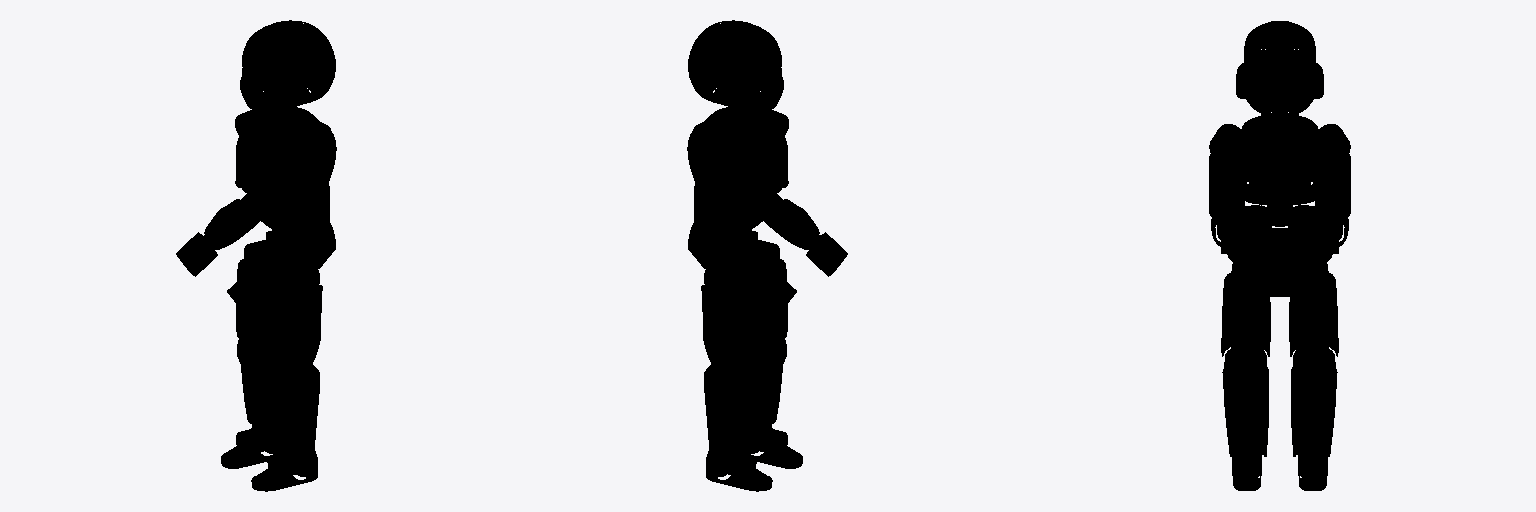
--- Facts derived from the render (not from the file) ---
3 views of the same robot in one strip: view 1: azimuth 30°, elevation 25°; view 2: azimuth 150°, elevation 25°; view 3: azimuth 270°, elevation 25° (orthographic).
Model iCub with 56 links and 55 joints (29 revolute, 26 fixed), rooted at base_link, posed joints at zero except 2 at the middle of their limits (l_elbow = 0.973, r_elbow = 0.973).
Links seen in each view (by area): view 1: head, chest, l_upper_leg, l_lower_leg, r_lower_leg, l_upper_arm, l_forearm, torso_1, r_forearm, l_foot, r_upper_leg, r_foot (+4 smaller); view 2: head, chest, r_upper_leg, r_lower_leg, l_lower_leg, r_upper_arm, r_forearm, torso_1, l_forearm, r_foot, l_upper_leg, l_foot (+4 smaller); view 3: torso_1, chest, head, l_upper_leg, r_upper_leg, l_lower_leg, r_lower_leg, l_upper_arm, r_upper_arm, l_shoulder_2, r_shoulder_2, l_foot (+1 smaller).
Link boxes in pixels (x1,y1,x2,y2): head: (240, 20, 335, 113); chest: (242, 107, 336, 204); l_upper_leg: (266, 281, 322, 371); l_lower_leg: (269, 362, 319, 461); r_lower_leg: (237, 339, 276, 438); l_upper_arm: (286, 170, 329, 234); l_forearm: (255, 231, 312, 287); torso_1: (247, 199, 335, 268); r_forearm: (204, 193, 259, 250); l_foot: (251, 450, 317, 491); r_upper_leg: (236, 258, 279, 345); r_foot: (221, 429, 282, 468); head: (688, 20, 783, 113); chest: (687, 107, 782, 204); r_upper_leg: (701, 281, 757, 371); r_lower_leg: (704, 362, 754, 461); l_lower_leg: (747, 339, 786, 438); r_upper_arm: (694, 170, 737, 234); r_forearm: (711, 231, 768, 287); torso_1: (688, 199, 776, 268); l_forearm: (764, 193, 820, 250); r_foot: (706, 450, 772, 491); l_upper_leg: (744, 258, 787, 345); l_foot: (741, 429, 802, 468); torso_1: (1227, 203, 1332, 291); chest: (1234, 116, 1325, 204); head: (1236, 21, 1323, 116); l_upper_leg: (1221, 271, 1270, 386); r_upper_leg: (1289, 271, 1338, 386); l_lower_leg: (1222, 349, 1268, 462); r_lower_leg: (1291, 349, 1337, 462); l_upper_arm: (1209, 154, 1244, 220); r_upper_arm: (1315, 154, 1350, 220); l_shoulder_2: (1209, 124, 1240, 161); r_shoulder_2: (1319, 124, 1350, 161); l_foot: (1233, 459, 1260, 490).
Size in the robot's own frame: 0.3131 by 0.2951 by 1.05 metres.
28 mesh visuals loaded from 28 distinct referenced files (28 Collada DAE).

The robot description file, URDF, robot "iCub":
<?xml version="1.0" ?>
<robot name="iCub">
    <link name="base_link" />
    <link name="chest">
        <inertial>
            <mass value="4.81" />
            <origin xyz="0.00222898 0.075 -1.18362e-17" rpy="0 -0 0" />
            <inertia ixx="0.07472" ixy="-3.6e-06" ixz="-4.705e-05" iyy="0.08145" iyz="0.004567" izz="0.01306" />
        </inertial>
        <visual>
            <origin xyz="-0.0055 -6.93889e-18 -1.72085e-18" rpy="0 -1.5708 1.5708" />
            <geometry>
                <mesh filename="package://icub_description/meshes/upmc/visual/icub_chest.dae" scale="1 1 1" />
            </geometry>
            <material name="material.metal">
                <texture />
                <color rgba="0 0 0 1" />
            </material>
        </visual>
        <collision>
            <origin xyz="-0.0055 -6.93889e-18 -1.72085e-18" rpy="0 -1.5708 1.5708" />
            <geometry>
                <mesh filename="package://icub_description/meshes/upmc/collision/icub_simple_collision_chest.dae" scale="1 1 1" />
            </geometry>
        </collision>
    </link>
    <link name="chest_skin_frame">
        <inertial>
            <mass value="0" />
            <origin xyz="0 0 0" rpy="0 -0 0" />
            <inertia ixx="0" ixy="0" ixz="0" iyy="0" iyz="0" izz="0" />
        </inertial>
    </link>
    <link name="codyco_balancing_world">
        <inertial>
            <mass value="0" />
            <origin xyz="0 0 0" rpy="0 -0 0" />
            <inertia ixx="0" ixy="0" ixz="0" iyy="0" iyz="0" izz="0" />
        </inertial>
    </link>
    <link name="head">
        <inertial>
            <mass value="1.33687" />
            <origin xyz="0.0185 -0.1108 6.78454e-18" rpy="0 -0 0" />
            <inertia ixx="0" ixy="0" ixz="2.40741e-35" iyy="0" iyz="0" izz="0" />
        </inertial>
        <visual>
            <origin xyz="0.0045 -0.0235 9.42554e-13" rpy="0 1.5708 -1.5708" />
            <geometry>
                <mesh filename="package://icub_description/meshes/upmc/visual/icub_head.dae" scale="1 1 1" />
            </geometry>
            <material name="material.metal">
                <texture />
                <color rgba="0 0 0 1" />
            </material>
        </visual>
        <collision>
            <origin xyz="0.0045 -0.0235 9.42554e-13" rpy="0 1.5708 -1.5708" />
            <geometry>
                <mesh filename="package://icub_description/meshes/upmc/collision/icub_simple_collision_head.dae" scale="1 1 1" />
            </geometry>
        </collision>
    </link>
    <link name="imu_frame">
        <inertial>
            <mass value="0" />
            <origin xyz="0 0 0" rpy="0 -0 0" />
            <inertia ixx="0" ixy="0" ixz="0" iyy="0" iyz="0" izz="0" />
        </inertial>
    </link>
    <link name="l_ankle_1">
        <inertial>
            <mass value="0.746" />
            <origin xyz="-0.0054 0.00163 0.0172" rpy="0 -0 0" />
            <inertia ixx="0.00063323" ixy="-7.081e-06" ixz="4.1421e-05" iyy="0.00068776" iyz="2.0817e-05" izz="0.000313897" />
        </inertial>
        <visual>
            <origin xyz="1.11022e-16 -5.54343e-12 4.45647e-12" rpy="1.5708 1.53106e-11 1.53105e-11" />
            <geometry>
                <mesh filename="package://icub_description/meshes/upmc/visual/icub_l_ankle_1.dae" scale="1 1 1" />
            </geometry>
            <material name="material.metal">
                <texture />
                <color rgba="0 0 0 1" />
            </material>
        </visual>
        <collision>
            <origin xyz="1.11022e-16 -5.54343e-12 4.45647e-12" rpy="1.5708 1.53106e-11 1.53105e-11" />
            <geometry>
                <mesh filename="package://icub_description/meshes/upmc/collision/icub_simple_collision_l_ankle_1.dae" scale="1 1 1" />
            </geometry>
        </collision>
    </link>
    <link name="l_ankle_2">
        <inertial>
            <mass value="0.2675" />
            <origin xyz="0.017 0 0.042" rpy="0 -0 0" />
            <inertia ixx="0" ixy="0" ixz="0" iyy="0" iyz="0" izz="0" />
        </inertial>
    </link>
    <link name="l_elbow_1">
        <inertial>
            <mass value="0.074" />
            <origin xyz="-0.0013 0.00371 -0.00105" rpy="0 -0 0" />
            <inertia ixx="2.8389e-05" ixy="-5.15e-07" ixz="-4.08e-07" iyy="9.244e-06" iyz="-3.71e-07" izz="2.9968e-05" />
        </inertial>
    </link>
    <link name="l_foot">
        <inertial>
            <mass value="0.5935" />
            <origin xyz="0.007069 -0.000613931 -0.0334154" rpy="0 -0 0" />
            <inertia ixx="0.00193893" ixy="-1.3505e-05" ixz="0.0001823" iyy="0.0030191" iyz="-3.30533e-06" izz="0.00162801" />
        </inertial>
        <visual>
            <origin xyz="-0.017 -5.54343e-12 -0.042" rpy="0 1.5708 -2.0414e-11" />
            <geometry>
                <mesh filename="package://icub_description/meshes/upmc/visual/icub_l_foot.dae" scale="1 1 1" />
            </geometry>
            <material name="material.metal">
                <texture />
                <color rgba="0 0 0 1" />
            </material>
        </visual>
        <collision>
            <origin xyz="-0.017 -5.54343e-12 -0.042" rpy="0 1.5708 -2.0414e-11" />
            <geometry>
                <mesh filename="package://icub_description/meshes/upmc/collision/icub_simple_collision_l_foot.dae" scale="1 1 1" />
            </geometry>
        </collision>
    </link>
    <link name="l_foot_dh_frame">
        <inertial>
            <mass value="0" />
            <origin xyz="0 0 0" rpy="0 -0 0" />
            <inertia ixx="0" ixy="0" ixz="0" iyy="0" iyz="0" izz="0" />
        </inertial>
    </link>
    <link name="l_forearm">
        <inertial>
            <mass value="0.525" />
            <origin xyz="0.000347 0.066 0.00476" rpy="0 -0 0" />
            <inertia ixx="0.000765393" ixy="4.337e-06" ixz="2.39e-07" iyy="0.000164578" iyz="1.9381e-05" izz="0.00069806" />
        </inertial>
        <visual>
            <origin xyz="-0.000143922 -1.25977e-12 0.0204334" rpy="0 1.5708 1.5708" />
            <geometry>
                <mesh filename="package://icub_description/meshes/upmc/visual/icub_l_forearm.dae" scale="1 1 1" />
            </geometry>
            <material name="material.metal">
                <texture />
                <color rgba="0 0 0 1" />
            </material>
        </visual>
        <collision>
            <origin xyz="-0.000143922 -1.25977e-12 0.0204334" rpy="0 1.5708 1.5708" />
            <geometry>
                <mesh filename="package://icub_description/meshes/upmc/collision/icub_simple_collision_l_forearm.dae" scale="1 1 1" />
            </geometry>
        </collision>
    </link>
    <link name="l_forearm_dh_frame">
        <inertial>
            <mass value="0" />
            <origin xyz="0 0 0" rpy="0 -0 0" />
            <inertia ixx="0" ixy="0" ixz="0" iyy="0" iyz="0" izz="0" />
        </inertial>
    </link>
    <link name="l_gripper">
        <inertial>
            <mass value="0" />
            <origin xyz="0 0 0" rpy="0 -0 0" />
            <inertia ixx="0" ixy="0" ixz="0" iyy="0" iyz="0" izz="0" />
        </inertial>
    </link>
    <link name="l_hand">
        <inertial>
            <mass value="0.213" />
            <origin xyz="0.07023 -0.00805 -0.007" rpy="0 -0 0" />
            <inertia ixx="0.000157143" ixy="1.278e-05" ixz="4.823e-06" iyy="0.000247995" iyz="-1.8188e-05" izz="0.000380535" />
        </inertial>
        <visual>
            <origin xyz="-1.25981e-12 0.0204334 -0.000143922" rpy="5.10195e-12 -2.64173e-12 1.49623e-11" />
            <geometry>
                <mesh filename="package://icub_description/meshes/upmc/visual/icub_l_hand.dae" scale="1 1 1" />
            </geometry>
            <material name="material.metal">
                <texture />
                <color rgba="0 0 0 1" />
            </material>
        </visual>
        <collision>
            <origin xyz="-1.25981e-12 0.0204334 -0.000143922" rpy="5.10195e-12 -2.64173e-12 1.49623e-11" />
            <geometry>
                <mesh filename="package://icub_description/meshes/upmc/collision/icub_simple_collision_l_hand.dae" scale="1 1 1" />
            </geometry>
        </collision>
    </link>
    <link name="l_hand_dh_frame">
        <inertial>
            <mass value="0" />
            <origin xyz="0 0 0" rpy="0 -0 0" />
            <inertia ixx="0" ixy="0" ixz="0" iyy="0" iyz="0" izz="0" />
        </inertial>
    </link>
    <link name="l_hip_1">
        <inertial>
            <mass value="0.754" />
            <origin xyz="0 -0.0782 0" rpy="0 -0 0" />
            <inertia ixx="0.000471076" ixy="2.059e-06" ixz="1.451e-06" iyy="0.000346478" iyz="1.545e-06" izz="0.000510315" />
        </inertial>
        <visual>
            <origin xyz="0 0 0" rpy="0 1.5708 -1.5708" />
            <geometry>
                <mesh filename="package://icub_description/meshes/upmc/visual/icub_l_hip_1.dae" scale="1 1 1" />
            </geometry>
            <material name="material.metal">
                <texture />
                <color rgba="0 0 0 1" />
            </material>
        </visual>
        <collision>
            <origin xyz="0 0 0" rpy="0 1.5708 -1.5708" />
            <geometry>
                <mesh filename="package://icub_description/meshes/upmc/collision/icub_simple_collision_l_hip_1.dae" scale="1 1 1" />
            </geometry>
        </collision>
    </link>
    <link name="l_hip_2">
        <inertial>
            <mass value="0.526" />
            <origin xyz="0 0 0.03045" rpy="0 -0 0" />
            <inertia ixx="0.000561583" ixy="-7.4e-08" ixz="1.0835e-05" iyy="0.000738049" iyz="-6.2e-08" izz="0.000294119" />
        </inertial>
        <visual>
            <origin xyz="0 0 0" rpy="0 -1.5708 3.14159" />
            <geometry>
                <mesh filename="package://icub_description/meshes/upmc/visual/icub_l_hip_2.dae" scale="1 1 1" />
            </geometry>
            <material name="material.metal">
                <texture />
                <color rgba="0 0 0 1" />
            </material>
        </visual>
        <collision>
            <origin xyz="0 0 0" rpy="0 -1.5708 3.14159" />
            <geometry>
                <mesh filename="package://icub_description/meshes/upmc/collision/icub_simple_collision_l_hip_2.dae" scale="1 1 1" />
            </geometry>
        </collision>
    </link>
    <link name="l_hip_3">
        <inertial>
            <mass value="0" />
            <origin xyz="0 0 0" rpy="0 -0 0" />
            <inertia ixx="0" ixy="0" ixz="0" iyy="0" iyz="0" izz="0" />
        </inertial>
    </link>
    <link name="l_lower_leg">
        <inertial>
            <mass value="1.264" />
            <origin xyz="-0.1071 0.00182 0.00211" rpy="0 -0 0" />
            <inertia ixx="0.00099895" ixy="-0.000185699" ixz="-6.3147e-05" iyy="0.00445054" iyz="7.86e-07" izz="0.00420766" />
        </inertial>
        <visual>
            <origin xyz="5.55112e-17 2.28232e-12 2.2823e-12" rpy="-3.14159 -2.33487e-16 1.5708" />
            <geometry>
                <mesh filename="package://icub_description/meshes/upmc/visual/icub_l_shank.dae" scale="1 1 1" />
            </geometry>
            <material name="material.metal">
                <texture />
                <color rgba="0 0 0 1" />
            </material>
        </visual>
        <collision>
            <origin xyz="5.55112e-17 2.28232e-12 2.2823e-12" rpy="-3.14159 -2.33487e-16 1.5708" />
            <geometry>
                <mesh filename="package://icub_description/meshes/upmc/collision/icub_simple_collision_l_shank.dae" scale="1 1 1" />
            </geometry>
        </collision>
    </link>
    <link name="l_shoulder_1">
        <inertial>
            <mass value="0.189" />
            <origin xyz="-5e-06 0.0187 -0.00119" rpy="0 -0 0" />
            <inertia ixx="5.4421e-05" ixy="9e-09" ixz="0" iyy="9.331e-06" iyz="-1.7e-08" izz="5.4862e-05" />
        </inertial>
        <visual>
            <origin xyz="3.08087e-14 0.109285 -0.00521101" rpy="0 1.5708 -1.5708" />
            <geometry>
                <mesh filename="package://icub_description/meshes/upmc/visual/icub_l_shoulder_1.dae" scale="1 1 1" />
            </geometry>
            <material name="material.metal">
                <texture />
                <color rgba="0 0 0 1" />
            </material>
        </visual>
        <collision>
            <origin xyz="3.08087e-14 0.109285 -0.00521101" rpy="0 1.5708 -1.5708" />
            <geometry>
                <mesh filename="package://icub_description/meshes/upmc/collision/icub_simple_collision_l_shoulder_1.dae" scale="1 1 1" />
            </geometry>
        </collision>
    </link>
    <link name="l_shoulder_2">
        <inertial>
            <mass value="0.179" />
            <origin xyz="9.4e-05 -0.00627 0.0166" rpy="0 -0 0" />
            <inertia ixx="0.0001372" ixy="4.66e-07" ixz="3.65e-07" iyy="8.2927e-05" iyz="-2.0524e-05" izz="9.9274e-05" />
        </inertial>
        <visual>
            <origin xyz="-0.00154529 -0.00521101 -1.11181e-12" rpy="0 1.5708 1.5708" />
            <geometry>
                <mesh filename="package://icub_description/meshes/upmc/visual/icub_l_shoulder_2.dae" scale="1 1 1" />
            </geometry>
            <material name="material.metal">
                <texture />
                <color rgba="0 0 0 1" />
            </material>
        </visual>
        <collision>
            <origin xyz="-0.00154529 -0.00521101 -1.11181e-12" rpy="0 1.5708 1.5708" />
            <geometry>
                <mesh filename="package://icub_description/meshes/upmc/collision/icub_simple_collision_l_shoulder_2.dae" scale="1 1 1" />
            </geometry>
        </collision>
    </link>
    <link name="l_shoulder_3">
        <inertial>
            <mass value="0.156157" />
            <origin xyz="0.00559398 9.77357e-05 0.0501346" rpy="0 -0 0" />
            <inertia ixx="4.84118e-05" ixy="-5.662e-08" ixz="-4.3618e-06" iyy="5.79067e-05" iyz="-7.42844e-07" izz="6.7103e-05" />
        </inertial>
    </link>
    <link name="l_sole">
        <inertial>
            <mass value="0" />
            <origin xyz="0 0 0" rpy="0 -0 0" />
            <inertia ixx="0" ixy="0" ixz="0" iyy="0" iyz="0" izz="0" />
        </inertial>
    </link>
    <link name="l_upper_arm">
        <inertial>
            <mass value="0.727843" />
            <origin xyz="-0.000156 -9.87e-05 0.0298" rpy="0 -0 0" />
            <inertia ixx="0.000408" ixy="-1.08e-06" ixz="-2.29e-06" iyy="0.00038" iyz="3.57e-06" izz="0.00026" />
        </inertial>
        <visual>
            <origin xyz="-0.0204334 0.000143922 -0.068" rpy="1.15275e-11 4.9296e-12 -1.309" />
            <geometry>
                <mesh filename="package://icub_description/meshes/upmc/visual/icub_l_arm.dae" scale="1 1 1" />
            </geometry>
            <material name="material.metal">
                <texture />
                <color rgba="0 0 0 1" />
            </material>
        </visual>
        <collision>
            <origin xyz="-0.0204334 0.000143922 -0.068" rpy="1.15275e-11 4.9296e-12 -1.309" />
            <geometry>
                <mesh filename="package://icub_description/meshes/upmc/collision/icub_simple_collision_l_arm.dae" scale="1 1 1" />
            </geometry>
        </collision>
    </link>
    <link name="l_upper_arm_dh_frame">
        <inertial>
            <mass value="0" />
            <origin xyz="0 0 0" rpy="0 -0 0" />
            <inertia ixx="0" ixy="0" ixz="0" iyy="0" iyz="0" izz="0" />
        </inertial>
    </link>
    <link name="l_upper_leg">
        <inertial>
            <mass value="2.175" />
            <origin xyz="0.00144 -0.15943 -0.00039" rpy="0 -0 0" />
            <inertia ixx="0.00759107" ixy="-6.726e-05" ixz="2.267e-06" iyy="0.00142302" iyz="3.63726e-05" izz="0.00755385" />
        </inertial>
        <visual>
            <origin xyz="0 0 0" rpy="0 1.5708 1.5708" />
            <geometry>
                <mesh filename="package://icub_description/meshes/upmc/visual/icub_l_thigh.dae" scale="1 1 1" />
            </geometry>
            <material name="material.metal">
                <texture />
                <color rgba="0 0 0 1" />
            </material>
        </visual>
        <collision>
            <origin xyz="0 0 0" rpy="0 1.5708 1.5708" />
            <geometry>
                <mesh filename="package://icub_description/meshes/upmc/collision/icub_simple_collision_l_thigh.dae" scale="1 1 1" />
            </geometry>
        </collision>
    </link>
    <link name="l_wrist_1">
        <inertial>
            <mass value="0" />
            <origin xyz="0 0 0" rpy="0 -0 0" />
            <inertia ixx="0" ixy="0" ixz="0" iyy="0" iyz="0" izz="0" />
        </inertial>
    </link>
    <link name="neck_1">
        <inertial>
            <mass value="0" />
            <origin xyz="0 0 0" rpy="0 -0 0" />
            <inertia ixx="0" ixy="0" ixz="0" iyy="0" iyz="0" izz="0" />
        </inertial>
        <visual>
            <origin xyz="-1.11022e-16 9.62964e-13 -0.0055" rpy="0 -1.5708 -1.5708" />
            <geometry>
                <mesh filename="package://icub_description/meshes/upmc/visual/icub_neck_1.dae" scale="1 1 1" />
            </geometry>
            <material name="material.metal">
                <texture />
                <color rgba="0 0 0 1" />
            </material>
        </visual>
        <collision>
            <origin xyz="-1.11022e-16 9.62964e-13 -0.0055" rpy="0 -1.5708 -1.5708" />
            <geometry>
                <mesh filename="package://icub_description/meshes/upmc/collision/icub_simple_collision_neck_1.dae" scale="1 1 1" />
            </geometry>
        </collision>
    </link>
    <link name="neck_2">
        <inertial>
            <mass value="0" />
            <origin xyz="0 0 0" rpy="0 -0 0" />
            <inertia ixx="0" ixy="0" ixz="0" iyy="0" iyz="0" izz="0" />
        </inertial>
        <visual>
            <origin xyz="-9.62967e-13 0.0055 0.0235" rpy="0 -1.5708 1.5708" />
            <geometry>
                <mesh filename="package://icub_description/meshes/upmc/visual/icub_neck_2.dae" scale="1 1 1" />
            </geometry>
            <material name="material.metal">
                <texture />
                <color rgba="0 0 0 1" />
            </material>
        </visual>
        <collision>
            <origin xyz="-9.62967e-13 0.0055 0.0235" rpy="0 -1.5708 1.5708" />
            <geometry>
                <mesh filename="package://icub_description/meshes/upmc/collision/icub_simple_collision_neck_2.dae" scale="1 1 1" />
            </geometry>
        </collision>
    </link>
    <link name="r_ankle_1">
        <inertial>
            <mass value="0.746" />
            <origin xyz="-0.0054 0.00163 -0.0172" rpy="0 -0 0" />
            <inertia ixx="2.71051e-20" ixy="-1.69407e-21" ixz="1.35525e-20" iyy="5.42101e-20" iyz="3.38813e-21" izz="1.35525e-20" />
        </inertial>
        <visual>
            <origin xyz="1.11022e-16 -1.08717e-12 -4.45647e-12" rpy="-1.5708 -1.53106e-11 5.10376e-12" />
            <geometry>
                <mesh filename="package://icub_description/meshes/upmc/visual/icub_r_ankle_1.dae" scale="1 1 1" />
            </geometry>
            <material name="material.metal">
                <texture />
                <color rgba="0 0 0 1" />
            </material>
        </visual>
        <collision>
            <origin xyz="1.11022e-16 -1.08717e-12 -4.45647e-12" rpy="-1.5708 -1.53106e-11 5.10376e-12" />
            <geometry>
                <mesh filename="package://icub_description/meshes/upmc/collision/icub_simple_collision_r_ankle_1.dae" scale="1 1 1" />
            </geometry>
        </collision>
    </link>
    <link name="r_ankle_2">
        <inertial>
            <mass value="0.2675" />
            <origin xyz="0.017 0 0.042" rpy="0 -0 0" />
            <inertia ixx="0" ixy="0" ixz="0" iyy="0" iyz="0" izz="0" />
        </inertial>
    </link>
    <link name="r_elbow_1">
        <inertial>
            <mass value="0.074" />
            <origin xyz="0.0013 -0.00371 0.00105" rpy="0 -0 0" />
            <inertia ixx="2.84e-05" ixy="-5.02e-07" ixz="-3.99e-07" iyy="9.24e-06" iyz="-3.71e-07" izz="2.99e-05" />
        </inertial>
    </link>
    <link name="r_foot">
        <inertial>
            <mass value="0.5935" />
            <origin xyz="0.007069 0.000613931 -0.0334154" rpy="0 -0 0" />
            <inertia ixx="0.00193893" ixy="1.3505e-05" ixz="0.0001823" iyy="0.0030191" iyz="3.30551e-06" izz="0.00162801" />
        </inertial>
        <visual>
            <origin xyz="-0.017 1.08717e-12 -0.042" rpy="0 1.5708 3.14159" />
            <geometry>
                <mesh filename="package://icub_description/meshes/upmc/visual/icub_r_foot.dae" scale="1 1 1" />
            </geometry>
            <material name="material.metal">
                <texture />
                <color rgba="0 0 0 1" />
            </material>
        </visual>
        <collision>
            <origin xyz="-0.017 1.08717e-12 -0.042" rpy="0 1.5708 3.14159" />
            <geometry>
                <mesh filename="package://icub_description/meshes/upmc/collision/icub_simple_collision_r_foot.dae" scale="1 1 1" />
            </geometry>
        </collision>
    </link>
    <link name="r_foot_dh_frame">
        <inertial>
            <mass value="0" />
            <origin xyz="0 0 0" rpy="0 -0 0" />
            <inertia ixx="0" ixy="0" ixz="0" iyy="0" iyz="0" izz="0" />
        </inertial>
    </link>
    <link name="r_forearm">
        <inertial>
            <mass value="0.525" />
            <origin xyz="-0.000347 -0.066 -0.00476" rpy="0 -0 0" />
            <inertia ixx="0.000766" ixy="5.66e-06" ixz="1.4e-06" iyy="0.000164" iyz="1.82e-05" izz="0.000699" />
        </inertial>
        <visual>
            <origin xyz="0.000143922 -1.07216e-12 -0.0204334" rpy="0 1.5708 1.5708" />
            <geometry>
                <mesh filename="package://icub_description/meshes/upmc/visual/icub_r_forearm.dae" scale="1 1 1" />
            </geometry>
            <material name="material.metal">
                <texture />
                <color rgba="0 0 0 1" />
            </material>
        </visual>
        <collision>
            <origin xyz="0.000143922 -1.07216e-12 -0.0204334" rpy="0 1.5708 1.5708" />
            <geometry>
                <mesh filename="package://icub_description/meshes/upmc/collision/icub_simple_collision_r_forearm.dae" scale="1 1 1" />
            </geometry>
        </collision>
    </link>
    <link name="r_forearm_dh_frame">
        <inertial>
            <mass value="0" />
            <origin xyz="0 0 0" rpy="0 -0 0" />
            <inertia ixx="0" ixy="0" ixz="0" iyy="0" iyz="0" izz="0" />
        </inertial>
    </link>
    <link name="r_gripper">
        <inertial>
            <mass value="0" />
            <origin xyz="0 0 0" rpy="0 -0 0" />
            <inertia ixx="0" ixy="0" ixz="0" iyy="0" iyz="0" izz="0" />
        </inertial>
    </link>
    <link name="r_hand">
        <inertial>
            <mass value="0.213" />
            <origin xyz="0.07023 -0.00805 0.007" rpy="0 -0 0" />
            <inertia ixx="0.000154" ixy="1.26e-05" ixz="-6.08e-06" iyy="0.00025" iyz="1.76e-05" izz="0.000378" />
        </inertial>
        <visual>
            <origin xyz="1.07207e-12 0.0204334 0.000143922" rpy="1.53098e-11 2.00665e-11 -3.14159" />
            <geometry>
                <mesh filename="package://icub_description/meshes/upmc/visual/icub_r_hand.dae" scale="1 1 1" />
            </geometry>
            <material name="material.metal">
                <texture />
                <color rgba="0 0 0 1" />
            </material>
        </visual>
        <collision>
            <origin xyz="1.07207e-12 0.0204334 0.000143922" rpy="1.53098e-11 2.00665e-11 -3.14159" />
            <geometry>
                <mesh filename="package://icub_description/meshes/upmc/collision/icub_simple_collision_r_hand.dae" scale="1 1 1" />
            </geometry>
        </collision>
    </link>
    <link name="r_hand_dh_frame">
        <inertial>
            <mass value="0" />
            <origin xyz="0 0 0" rpy="0 -0 0" />
            <inertia ixx="0" ixy="0" ixz="0" iyy="0" iyz="0" izz="0" />
        </inertial>
    </link>
    <link name="r_hip_1">
        <inertial>
            <mass value="0.754" />
            <origin xyz="0 -0.0782 0" rpy="0 -0 0" />
            <inertia ixx="0" ixy="0" ixz="0" iyy="0" iyz="0" izz="0" />
        </inertial>
        <visual>
            <origin xyz="0 0 0" rpy="0 -1.5708 4.71239" />
            <geometry>
                <mesh filename="package://icub_description/meshes/upmc/visual/icub_r_hip_1.dae" scale="1 1 1" />
            </geometry>
            <material name="material.metal">
                <texture />
                <color rgba="0 0 0 1" />
            </material>
        </visual>
        <collision>
            <origin xyz="0 0 0" rpy="0 -1.5708 4.71239" />
            <geometry>
                <mesh filename="package://icub_description/meshes/upmc/collision/icub_simple_collision_r_hip_1.dae" scale="1 1 1" />
            </geometry>
        </collision>
    </link>
    <link name="r_hip_2">
        <inertial>
            <mass value="0.526" />
            <origin xyz="0 0 0.03045" rpy="0 -0 0" />
            <inertia ixx="-5.42101e-20" ixy="0" ixz="0" iyy="-5.42101e-20" iyz="0" izz="0" />
        </inertial>
        <visual>
            <origin xyz="0 0 0" rpy="0 -1.5708 1.02066e-11" />
            <geometry>
                <mesh filename="package://icub_description/meshes/upmc/visual/icub_r_hip_2.dae" scale="1 1 1" />
            </geometry>
            <material name="material.metal">
                <texture />
                <color rgba="0 0 0 1" />
            </material>
        </visual>
        <collision>
            <origin xyz="0 0 0" rpy="0 -1.5708 1.02066e-11" />
            <geometry>
                <mesh filename="package://icub_description/meshes/upmc/collision/icub_simple_collision_r_hip_2.dae" scale="1 1 1" />
            </geometry>
        </collision>
    </link>
    <link name="r_hip_3">
        <inertial>
            <mass value="0" />
            <origin xyz="0 0 0" rpy="0 -0 0" />
            <inertia ixx="0" ixy="0" ixz="0" iyy="0" iyz="0" izz="0" />
        </inertial>
    </link>
    <link name="r_lower_leg">
        <inertial>
            <mass value="1.264" />
            <origin xyz="-0.1071 0.00182 -0.00211" rpy="0 -0 0" />
            <inertia ixx="1.10961e-18" ixy="5.42101e-20" ixz="-5.42101e-20" iyy="0" iyz="8.47033e-22" izz="0" />
        </inertial>
        <visual>
            <origin xyz="5.55112e-17 2.28232e-12 -8.32667e-17" rpy="3.14159 -1.14424e-17 1.5708" />
            <geometry>
                <mesh filename="package://icub_description/meshes/upmc/visual/icub_r_shank.dae" scale="1 1 1" />
            </geometry>
            <material name="material.metal">
                <texture />
                <color rgba="0 0 0 1" />
            </material>
        </visual>
        <collision>
            <origin xyz="5.55112e-17 2.28232e-12 -8.32667e-17" rpy="3.14159 -1.14424e-17 1.5708" />
            <geometry>
                <mesh filename="package://icub_description/meshes/upmc/collision/icub_simple_collision_r_shank.dae" scale="1 1 1" />
            </geometry>
        </collision>
    </link>
    <link name="r_shoulder_1">
        <inertial>
            <mass value="0.189" />
            <origin xyz="5e-06 0.0187 0.00119" rpy="0 -0 0" />
            <inertia ixx="0.000123" ixy="2.1e-08" ixz="-1e-09" iyy="2.44e-05" iyz="4.22e-06" izz="0.000113" />
        </inertial>
        <visual>
            <origin xyz="-3.08642e-14 0.109285 0.00521101" rpy="0 1.5708 1.5708" />
            <geometry>
                <mesh filename="package://icub_description/meshes/upmc/visual/icub_r_shoulder_1.dae" scale="1 1 1" />
            </geometry>
            <material name="material.metal">
                <texture />
                <color rgba="0 0 0 1" />
            </material>
        </visual>
        <collision>
            <origin xyz="-3.08642e-14 0.109285 0.00521101" rpy="0 1.5708 1.5708" />
            <geometry>
                <mesh filename="package://icub_description/meshes/upmc/collision/icub_simple_collision_r_shoulder_1.dae" scale="1 1 1" />
            </geometry>
        </collision>
    </link>
    <link name="r_shoulder_2">
        <inertial>
            <mass value="0.179" />
            <origin xyz="-9.4e-05 -0.00627 -0.0166" rpy="0 -0 0" />
            <inertia ixx="0.000137" ixy="-4.53e-07" ixz="2.03e-07" iyy="8.3e-05" iyz="2.07e-05" izz="9.93e-05" />
        </inertial>
        <visual>
            <origin xyz="-0.00154529 -0.00521101 -1.11186e-12" rpy="0 -1.5708 1.5708" />
            <geometry>
                <mesh filename="package://icub_description/meshes/upmc/visual/icub_r_shoulder_2.dae" scale="1 1 1" />
            </geometry>
            <material name="material.metal">
                <texture />
                <color rgba="0 0 0 1" />
            </material>
        </visual>
        <collision>
            <origin xyz="-0.00154529 -0.00521101 -1.11186e-12" rpy="0 -1.5708 1.5708" />
            <geometry>
                <mesh filename="package://icub_description/meshes/upmc/collision/icub_simple_collision_r_shoulder_2.dae" scale="1 1 1" />
            </geometry>
        </collision>
    </link>
    <link name="r_shoulder_3">
        <inertial>
            <mass value="0.155" />
            <origin xyz="0.00553932 -2.47652e-05 0.0493895" rpy="0 -0 0" />
            <inertia ixx="3.44122e-05" ixy="3.56977e-07" ixz="-3.95372e-06" iyy="4.33544e-05" iyz="-6.5128e-06" izz="6.49393e-05" />
        </inertial>
    </link>
    <link name="r_sole">
        <inertial>
            <mass value="0" />
            <origin xyz="0 0 0" rpy="0 -0 0" />
            <inertia ixx="0" ixy="0" ixz="0" iyy="0" iyz="0" izz="0" />
        </inertial>
    </link>
    <link name="r_upper_arm">
        <inertial>
            <mass value="0.729" />
            <origin xyz="-0.00015906 8.28733e-05 0.0298828" rpy="0 -0 0" />
            <inertia ixx="0.000408" ixy="-1.08e-06" ixz="-2.29e-06" iyy="0.00038" iyz="3.57e-06" izz="0.00026" />
        </inertial>
        <visual>
            <origin xyz="-0.0204334 -0.000143922 -0.068" rpy="-3.14159 -1.5137e-11 1.309" />
            <geometry>
                <mesh filename="package://icub_description/meshes/upmc/visual/icub_r_arm.dae" scale="1 1 1" />
            </geometry>
            <material name="material.metal">
                <texture />
                <color rgba="0 0 0 1" />
            </material>
        </visual>
        <collision>
            <origin xyz="-0.0204334 -0.000143922 -0.068" rpy="-3.14159 -1.5137e-11 1.309" />
            <geometry>
                <mesh filename="package://icub_description/meshes/upmc/collision/icub_simple_collision_r_arm.dae" scale="1 1 1" />
            </geometry>
        </collision>
    </link>
    <link name="r_upper_arm_dh_frame">
        <inertial>
            <mass value="0" />
            <origin xyz="0 0 0" rpy="0 -0 0" />
            <inertia ixx="0" ixy="0" ixz="0" iyy="0" iyz="0" izz="0" />
        </inertial>
    </link>
    <link name="r_upper_leg">
        <inertial>
            <mass value="2.175" />
            <origin xyz="0.00144 -0.15943 0.00039" rpy="0 -0 0" />
            <inertia ixx="0" ixy="0" ixz="0" iyy="4.07592e-18" iyz="-2.71051e-20" izz="0" />
        </inertial>
        <visual>
            <origin xyz="0 0 0" rpy="0 -1.5708 1.5708" />
            <geometry>
                <mesh filename="package://icub_description/meshes/upmc/visual/icub_r_thigh.dae" scale="1 1 1" />
            </geometry>
            <material name="material.metal">
                <texture />
                <color rgba="0 0 0 1" />
            </material>
        </visual>
        <collision>
            <origin xyz="0 0 0" rpy="0 -1.5708 1.5708" />
            <geometry>
                <mesh filename="package://icub_description/meshes/upmc/collision/icub_simple_collision_r_thigh.dae" scale="1 1 1" />
            </geometry>
        </collision>
    </link>
    <link name="r_wrist_1">
        <inertial>
            <mass value="0" />
            <origin xyz="0 0 0" rpy="0 -0 0" />
            <inertia ixx="0" ixy="0" ixz="0" iyy="0" iyz="0" izz="0" />
        </inertial>
    </link>
    <link name="root_link">
        <inertial>
            <mass value="4.72" />
            <origin xyz="0 0 0" rpy="0 -0 0" />
            <inertia ixx="0" ixy="0" ixz="0" iyy="0" iyz="0" izz="0" />
        </inertial>
        <visual>
            <origin xyz="0 0 0" rpy="0 -0 0" />
            <geometry>
                <mesh filename="package://icub_description/meshes/upmc/visual/icub_root_link.dae" scale="1 1 1" />
            </geometry>
            <material name="material.metal">
                <texture />
                <color rgba="0 0 0 1" />
            </material>
        </visual>
        <collision>
            <origin xyz="0 0 0" rpy="0 -0 0" />
            <geometry>
                <mesh filename="package://icub_description/meshes/upmc/collision/icub_simple_collision_root_link.dae" scale="1 1 1" />
            </geometry>
        </collision>
    </link>
    <link name="torso">
        <inertial>
            <mass value="0" />
            <origin xyz="0 0 0" rpy="0 -0 0" />
            <inertia ixx="0" ixy="0" ixz="0" iyy="0" iyz="0" izz="0" />
        </inertial>
    </link>
    <link name="torso_1">
        <inertial>
            <mass value="0" />
            <origin xyz="0 0 0" rpy="0 -0 0" />
            <inertia ixx="0.0004544" ixy="-4.263e-05" ixz="-3.889e-08" iyy="0.001141" iyz="0" izz="0.001236" />
        </inertial>
        <visual>
            <origin xyz="0 0 0" rpy="-1.5708 5.10314e-12 1.11022e-16" />
            <geometry>
                <mesh filename="package://icub_description/meshes/upmc/visual/icub_lap_belt_1.dae" scale="1 1 1" />
            </geometry>
            <material name="material.metal">
                <texture />
                <color rgba="0 0 0 1" />
            </material>
        </visual>
        <collision>
            <origin xyz="0 0 0" rpy="-1.5708 5.10314e-12 1.11022e-16" />
            <geometry>
                <mesh filename="package://icub_description/meshes/upmc/collision/icub_simple_collision_lap_belt_1.dae" scale="1 1 1" />
            </geometry>
        </collision>
    </link>
    <link name="torso_2">
        <inertial>
            <mass value="0" />
            <origin xyz="0 0 0" rpy="0 -0 0" />
            <inertia ixx="0.0005308" ixy="-1.923e-06" ixz="5.095e-05" iyy="0.002031" iyz="-3.849e-07" izz="0.001803" />
        </inertial>
    </link>
    <joint name="torso_yaw" type="revolute">
        <origin xyz="-7.46298e-34 -0.0055 0" rpy="-1.5708 1.11022e-16 -1.5708" />
        <axis xyz="0 -1 6.12323e-17" />
        <parent link="torso_2" />
        <child link="chest" />
        <dynamics damping="1" friction="0" />
        <limit effort="80" velocity="100" lower="-1.02974" upper="1.02974" />
    </joint>
    <joint name="chest_skin_frame_fixed_joint" type="fixed">
        <origin xyz="-0.0055 -0.032 3.36778e-19" rpy="1.5708 -1.22465e-16 -3.14159" />
        <axis xyz="0 0 0" />
        <parent link="chest" />
        <child link="chest_skin_frame" />
    </joint>
    <joint name="codyco_balancing_world_fixed_joint" type="fixed">
        <origin xyz="-0.0353 -7.60894e-35 -0.001" rpy="3.14159 -0 0" />
        <axis xyz="0 0 0" />
        <parent link="l_foot" />
        <child link="codyco_balancing_world" />
    </joint>
    <joint name="neck_yaw" type="fixed">
        <origin xyz="-5.77779e-34 0 0" rpy="-1.5708 -1.11022e-16 1.5708" />
        <axis xyz="0 -1 6.12323e-17" />
        <parent link="neck_2" />
        <child link="head" />
        <dynamics damping="1" friction="0" />
        <limit effort="20" velocity="100" lower="-0.959931" upper="0.959931" />
    </joint>
    <joint name="imu_frame_fixed_joint" type="fixed">
        <origin xyz="0.0185 -0.1108 0.0066" rpy="1.5708 -0 0" />
        <axis xyz="0 0 0" />
        <parent link="head" />
        <child link="imu_frame" />
    </joint>
    <joint name="l_ankle_pitch" type="revolute">
        <origin xyz="-0.213 0 0" rpy="-1.5708 0 0" />
        <axis xyz="0 -1 6.12323e-17" />
        <parent link="l_lower_leg" />
        <child link="l_ankle_1" />
        <dynamics damping="1" friction="0" />
        <limit effort="24" velocity="100" lower="-0.733038" upper="0.366519" />
    </joint>
    <joint name="l_ankle_roll" type="revolute">
        <origin xyz="0 0 0" rpy="0 -1.5708 0" />
        <axis xyz="1 0 0" />
        <parent link="l_ankle_1" />
        <child link="l_ankle_2" />
        <dynamics damping="1" friction="0" />
        <limit effort="11" velocity="100" lower="-0.418879" upper="0.418879" />
    </joint>
    <joint name="l_elbow" type="revolute">
        <origin xyz="0 0 0.08428" rpy="-6.12323e-17 0 0" />
        <axis xyz="0 1 6.12323e-17" />
        <parent link="l_upper_arm" />
        <child link="l_elbow_1" />
        <dynamics damping="1" friction="0" />
        <limit effort="20" velocity="100" lower="0.0959931" upper="1.85005" />
    </joint>
    <joint name="l_foot_ft_sensor" type="fixed">
        <origin xyz="0.017 0 0.042" rpy="0 -0 0" />
        <axis xyz="0 0 0" />
        <parent link="l_ankle_2" />
        <child link="l_foot" />
    </joint>
    <joint name="l_foot_dh_frame_fixed_joint" type="fixed">
        <origin xyz="-0.0353 0 -0.001" rpy="0 1.5708 -0" />
        <axis xyz="0 0 0" />
        <parent link="l_foot" />
        <child link="l_foot_dh_frame" />
    </joint>
    <joint name="l_wrist_prosup" type="revolute">
        <origin xyz="-0.015 0 0" rpy="1.5708 -1.11022e-16 -1.5708" />
        <axis xyz="0 1 6.12323e-17" />
        <parent link="l_elbow_1" />
        <child link="l_forearm" />
        <dynamics damping="1" friction="0" />
        <limit effort="0.45" velocity="100" lower="-0.872665" upper="0.872665" />
    </joint>
    <joint name="l_forearm_dh_frame_fixed_joint" type="fixed">
        <origin xyz="0 0.1373 8.4072e-18" rpy="0 -0 0" />
        <axis xyz="0 0 0" />
        <parent link="l_forearm" />
        <child link="l_forearm_dh_frame" />
    </joint>
    <joint name="l_gripper_joint" type="fixed">
        <origin xyz="0.0625 0 -0.016" rpy="0 -0 0" />
        <axis xyz="0 0 0" />
        <parent link="l_hand" />
        <child link="l_gripper" />
    </joint>
    <joint name="l_wrist_yaw" type="revolute">
        <origin xyz="0 0 0" rpy="0 -0 0" />
        <axis xyz="0 0 1" />
        <parent link="l_wrist_1" />
        <child link="l_hand" />
        <dynamics damping="1" friction="0" />
        <limit effort="0.65" velocity="100" lower="-0.436332" upper="0.436332" />
    </joint>
    <joint name="l_hand_dh_frame_fixed_joint" type="fixed">
        <origin xyz="0.0625 0 -0.016" rpy="0 -0 0" />
        <axis xyz="0 0 0" />
        <parent link="l_hand" />
        <child link="l_hand_dh_frame" />
    </joint>
    <joint name="l_hip_pitch" type="revolute">
        <origin xyz="0 -0.0681 -0.1199" rpy="0 1.5708 -3.14159" />
        <axis xyz="0 -1 6.12323e-17" />
        <parent link="root_link" />
        <child link="l_hip_1" />
        <dynamics damping="1" friction="0" />
        <limit effort="84" velocity="100" lower="-0.767945" upper="2.30383" />
    </joint>
    <joint name="l_hip_roll" type="revolute">
        <origin xyz="0 0 0" rpy="0 -1.5708 3.14159" />
        <axis xyz="1 0 -6.12323e-17" />
        <parent link="l_hip_1" />
        <child link="l_hip_2" />
        <dynamics damping="1" friction="0" />
        <limit effort="84" velocity="100" lower="-2.07694" upper="0.296706" />
    </joint>
    <joint name="l_leg_ft_sensor" type="fixed">
        <origin xyz="0 0 0.0665" rpy="0 -0 0" />
        <axis xyz="0 0 0" />
        <parent link="l_hip_2" />
        <child link="l_hip_3" />
    </joint>
    <joint name="l_knee" type="revolute">
        <origin xyz="0 -0.2236 -1.36916e-17" rpy="3.14159 -1.2326e-32 1.5708" />
        <axis xyz="0 1.22465e-16 -1" />
        <parent link="l_upper_leg" />
        <child link="l_lower_leg" />
        <dynamics damping="1" friction="0" />
        <limit effort="30" velocity="100" lower="-2.18166" upper="0.401426" />
    </joint>
    <joint name="l_shoulder_pitch" type="revolute">
        <origin xyz="0.00525 0.1433 -0.11026" rpy="1.309 5.55112e-17 1.5708" />
        <axis xyz="0 -1 5.55112e-17" />
        <parent link="chest" />
        <child link="l_shoulder_1" />
        <dynamics damping="1" friction="0" />
        <limit effort="84" velocity="100" lower="-1.65806" upper="0.0872665" />
    </joint>
    <joint name="l_shoulder_roll" type="revolute">
        <origin xyz="0 0 0" rpy="1.5708 -1.11022e-16 -1.5708" />
        <axis xyz="0 1 6.12323e-17" />
        <parent link="l_shoulder_1" />
        <child link="l_shoulder_2" />
        <dynamics damping="1" friction="0" />
        <limit effort="84" velocity="100" lower="0" upper="2.80649" />
    </joint>
    <joint name="l_shoulder_yaw" type="revolute">
        <origin xyz="4.33681e-19 1.73472e-18 0" rpy="6.12323e-17 -0 1.309" />
        <axis xyz="0 6.12323e-17 1" />
        <parent link="l_shoulder_2" />
        <child link="l_shoulder_3" />
        <dynamics damping="1" friction="0" />
        <limit effort="34" velocity="100" lower="-0.645772" upper="1.74533" />
    </joint>
    <joint name="l_sole_fixed_joint" type="fixed">
        <origin xyz="-0.0353 -7.60894e-35 -0.001" rpy="3.14159 -0 0" />
        <axis xyz="0 0 0" />
        <parent link="l_foot" />
        <child link="l_sole" />
    </joint>
    <joint name="l_arm_ft_sensor" type="fixed">
        <origin xyz="0.015 9.36797e-18 0.068" rpy="0 -0 0" />
        <axis xyz="0 0 0" />
        <parent link="l_shoulder_3" />
        <child link="l_upper_arm" />
    </joint>
    <joint name="l_upper_arm_dh_frame_fixed_joint" type="fixed">
        <origin xyz="0 0 0.08428" rpy="-1.5708 0 0" />
        <axis xyz="0 0 0" />
        <parent link="l_upper_arm" />
        <child link="l_upper_arm_dh_frame" />
    </joint>
    <joint name="l_hip_yaw" type="revolute">
        <origin xyz="0 0 -0.0665" rpy="-1.5708 -6.16298e-33 -6.12323e-17" />
        <axis xyz="0 1 6.12323e-17" />
        <parent link="l_hip_3" />
        <child link="l_upper_leg" />
        <dynamics damping="1" friction="0" />
        <limit effort="40" velocity="100" lower="-1.37881" upper="1.37881" />
    </joint>
    <joint name="l_wrist_pitch" type="revolute">
        <origin xyz="0 0.1373 8.4072e-18" rpy="1.5708 1.11022e-16 1.5708" />
        <axis xyz="0 1 6.12323e-17" />
        <parent link="l_forearm" />
        <child link="l_wrist_1" />
        <dynamics damping="1" friction="0" />
        <limit effort="0.65" velocity="100" lower="-1.13446" upper="0.174533" />
    </joint>
    <joint name="neck_pitch" type="fixed">
        <origin xyz="0.00231 0.1933 -1.18362e-17" rpy="1.5708 1.11022e-16 1.5708" />
        <axis xyz="0 1 6.12323e-17" />
        <parent link="chest" />
        <child link="neck_1" />
        <dynamics damping="1" friction="0" />
        <limit effort="20" velocity="100" lower="-0.698132" upper="0.523599" />
    </joint>
    <joint name="neck_roll" type="fixed">
        <origin xyz="0.0095 0 0" rpy="-1.5708 1.11022e-16 -1.5708" />
        <axis xyz="0 -1 6.12323e-17" />
        <parent link="neck_1" />
        <child link="neck_2" />
        <dynamics damping="1" friction="0" />
        <limit effort="20" velocity="100" lower="-1.22173" upper="1.0472" />
    </joint>
    <joint name="r_ankle_pitch" type="revolute">
        <origin xyz="-0.213 0 0" rpy="1.5708 -0 0" />
        <axis xyz="0 1 6.12323e-17" />
        <parent link="r_lower_leg" />
        <child link="r_ankle_1" />
        <dynamics damping="1" friction="0" />
        <limit effort="24" velocity="100" lower="-0.733038" upper="0.366519" />
    </joint>
    <joint name="r_ankle_roll" type="revolute">
        <origin xyz="0 0 0" rpy="0 1.5708 3.14159" />
        <axis xyz="-1 1.22465e-16 0" />
        <parent link="r_ankle_1" />
        <child link="r_ankle_2" />
        <dynamics damping="1" friction="0" />
        <limit effort="11" velocity="100" lower="-0.418879" upper="0.418879" />
    </joint>
    <joint name="r_elbow" type="revolute">
        <origin xyz="0 0 0.08428" rpy="3.14159 -0 3.14159" />
        <axis xyz="0 1 6.12323e-17" />
        <parent link="r_upper_arm" />
        <child link="r_elbow_1" />
        <dynamics damping="1" friction="0" />
        <limit effort="20" velocity="100" lower="0.0959931" upper="1.85005" />
    </joint>
    <joint name="r_foot_ft_sensor" type="fixed">
        <origin xyz="0.017 0 0.042" rpy="0 -0 0" />
        <axis xyz="0 0 0" />
        <parent link="r_ankle_2" />
        <child link="r_foot" />
    </joint>
    <joint name="r_foot_dh_frame_fixed_joint" type="fixed">
        <origin xyz="-0.0353 0 -0.001" rpy="0 1.5708 -0" />
        <axis xyz="0 0 0" />
        <parent link="r_foot" />
        <child link="r_foot_dh_frame" />
    </joint>
    <joint name="r_wrist_prosup" type="revolute">
        <origin xyz="0.015 0 0" rpy="1.5708 -1.11022e-16 -1.5708" />
        <axis xyz="0 1 6.12323e-17" />
        <parent link="r_elbow_1" />
        <child link="r_forearm" />
        <dynamics damping="1" friction="0" />
        <limit effort="0.45" velocity="100" lower="-0.872665" upper="0.872665" />
    </joint>
    <joint name="r_forearm_dh_frame_fixed_joint" type="fixed">
        <origin xyz="0 -0.1373 -8.4072e-18" rpy="0 -0 0" />
        <axis xyz="0 0 0" />
        <parent link="r_forearm" />
        <child link="r_forearm_dh_frame" />
    </joint>
    <joint name="r_gripper_joint" type="fixed">
        <origin xyz="0.0625 0 0.016" rpy="0 -0 0" />
        <axis xyz="0 0 0" />
        <parent link="r_hand" />
        <child link="r_gripper" />
    </joint>
    <joint name="r_wrist_yaw" type="revolute">
        <origin xyz="0 0 0" rpy="0 -0 3.14159" />
        <axis xyz="0 0 1" />
        <parent link="r_wrist_1" />
        <child link="r_hand" />
        <dynamics damping="1" friction="0" />
        <limit effort="0.65" velocity="100" lower="-0.436332" upper="0.436332" />
    </joint>
    <joint name="r_hand_dh_frame_fixed_joint" type="fixed">
        <origin xyz="0.0625 0 0.016" rpy="0 -0 0" />
        <axis xyz="0 0 0" />
        <parent link="r_hand" />
        <child link="r_hand_dh_frame" />
    </joint>
    <joint name="r_hip_pitch" type="revolute">
        <origin xyz="0 0.0681 -0.1199" rpy="0 1.5708 6.12323e-17" />
        <axis xyz="0 1 6.12323e-17" />
        <parent link="root_link" />
        <child link="r_hip_1" />
        <dynamics damping="1" friction="0" />
        <limit effort="84" velocity="100" lower="-0.767945" upper="2.30383" />
    </joint>
    <joint name="r_hip_roll" type="revolute">
        <origin xyz="0 0 0" rpy="0 1.5708 -6.12323e-17" />
        <axis xyz="-1 0 6.12323e-17" />
        <parent link="r_hip_1" />
        <child link="r_hip_2" />
        <dynamics damping="1" friction="0" />
        <limit effort="84" velocity="100" lower="-2.07694" upper="0.296706" />
    </joint>
    <joint name="r_leg_ft_sensor" type="fixed">
        <origin xyz="0 0 0.0665" rpy="0 -0 0" />
        <axis xyz="0 0 0" />
        <parent link="r_hip_2" />
        <child link="r_hip_3" />
    </joint>
    <joint name="r_knee" type="revolute">
        <origin xyz="0 -0.2236 1.36916e-17" rpy="3.14159 -1.2326e-32 1.5708" />
        <axis xyz="0 1.22465e-16 -1" />
        <parent link="r_upper_leg" />
        <child link="r_lower_leg" />
        <dynamics damping="1" friction="0" />
        <limit effort="30" velocity="100" lower="-2.18166" upper="0.401426" />
    </joint>
    <joint name="r_shoulder_pitch" type="revolute">
        <origin xyz="0.00525 0.1433 0.11026" rpy="-1.309 -0 1.5708" />
        <axis xyz="0 1 5.55112e-17" />
        <parent link="chest" />
        <child link="r_shoulder_1" />
        <dynamics damping="1" friction="0" />
        <limit effort="84" velocity="100" lower="-1.65806" upper="0.0872665" />
    </joint>
    <joint name="r_shoulder_roll" type="revolute">
        <origin xyz="0 0 0" rpy="-1.5708 1.11022e-16 -1.5708" />
        <axis xyz="0 -1 6.12323e-17" />
        <parent link="r_shoulder_1" />
        <child link="r_shoulder_2" />
        <dynamics damping="1" friction="0" />
        <limit effort="84" velocity="100" lower="0" upper="2.80649" />
    </joint>
    <joint name="r_shoulder_yaw" type="revolute">
        <origin xyz="-4.33681e-19 0 0" rpy="3.14159 -0 1.309" />
        <axis xyz="0 6.12323e-17 -1" />
        <parent link="r_shoulder_2" />
        <child link="r_shoulder_3" />
        <dynamics damping="1" friction="0" />
        <limit effort="34" velocity="100" lower="-0.645772" upper="1.74533" />
    </joint>
    <joint name="r_sole_fixed_joint" type="fixed">
        <origin xyz="-0.0353 -1.38778e-17 -0.001" rpy="3.14159 -0 0" />
        <axis xyz="0 0 0" />
        <parent link="r_foot" />
        <child link="r_sole" />
    </joint>
    <joint name="r_arm_ft_sensor" type="fixed">
        <origin xyz="0.015 -8.93429e-18 0.068" rpy="0 -0 0" />
        <axis xyz="0 0 0" />
        <parent link="r_shoulder_3" />
        <child link="r_upper_arm" />
    </joint>
    <joint name="r_upper_arm_dh_frame_fixed_joint" type="fixed">
        <origin xyz="0 0 0.08428" rpy="1.5708 -0 3.14159" />
        <axis xyz="0 0 0" />
        <parent link="r_upper_arm" />
        <child link="r_upper_arm_dh_frame" />
    </joint>
    <joint name="r_hip_yaw" type="revolute">
        <origin xyz="0 0 -0.0665" rpy="-1.5708 -6.16298e-33 6.12323e-17" />
        <axis xyz="0 -1 6.12323e-17" />
        <parent link="r_hip_3" />
        <child link="r_upper_leg" />
        <dynamics damping="1" friction="0" />
        <limit effort="40" velocity="100" lower="-1.37881" upper="1.37881" />
    </joint>
    <joint name="r_wrist_pitch" type="revolute">
        <origin xyz="0 -0.1373 -8.4072e-18" rpy="1.5708 1.11022e-16 1.5708" />
        <axis xyz="0 1 6.12323e-17" />
        <parent link="r_forearm" />
        <child link="r_wrist_1" />
        <dynamics damping="1" friction="0" />
        <limit effort="0.65" velocity="100" lower="-1.13446" upper="0.174533" />
    </joint>
    <joint name="base_fixed_joint" type="fixed">
        <origin xyz="0 0 0" rpy="0 -0 0" />
        <axis xyz="0 0 0" />
        <parent link="base_link" />
        <child link="root_link" />
    </joint>
    <joint name="torso_joint" type="fixed">
        <origin xyz="0.00231 0.1933 -1.18362e-17" rpy="0 -0 0" />
        <axis xyz="0 0 0" />
        <parent link="chest" />
        <child link="torso" />
    </joint>
    <joint name="torso_pitch" type="revolute">
        <origin xyz="0 0 0" rpy="0 -1.5708 3.14159" />
        <axis xyz="0 1 6.12323e-17" />
        <parent link="root_link" />
        <child link="torso_1" />
        <dynamics damping="1" friction="0" />
        <limit effort="36" velocity="100" lower="-0.383972" upper="1.46608" />
    </joint>
    <joint name="torso_roll" type="revolute">
        <origin xyz="0.032 -2.67276e-51 0" rpy="1.5708 -1.11022e-16 -1.5708" />
        <axis xyz="0 1 6.12323e-17" />
        <parent link="torso_1" />
        <child link="torso_2" />
        <dynamics damping="1" friction="0" />
        <limit effort="80" velocity="100" lower="-0.680678" upper="0.680678" />
    </joint>
    <gazebo reference="l_arm_ft_sensor">
        <sensor name="left_arm_ft" type="force_torque">
            <force_torque>
                <frame>child</frame>
                <measure_direction>child_to_parent</measure_direction>
            </force_torque>
            <update_rate>100</update_rate>
            <always_on>1</always_on>
        </sensor>
    </gazebo>
    <gazebo reference="r_arm_ft_sensor">
        <sensor name="right_arm_ft" type="force_torque">
            <force_torque>
                <frame>child</frame>
                <measure_direction>child_to_parent</measure_direction>
            </force_torque>
            <update_rate>100</update_rate>
            <always_on>1</always_on>
        </sensor>
    </gazebo>
    <gazebo reference="l_leg_ft_sensor">
        <sensor name="left_leg_ft" type="force_torque">
            <force_torque>
                <frame>child</frame>
                <measure_direction>child_to_parent</measure_direction>
            </force_torque>
            <update_rate>100</update_rate>
            <always_on>1</always_on>
        </sensor>
    </gazebo>
    <gazebo reference="r_leg_ft_sensor">
        <sensor name="right_leg_ft" type="force_torque">
            <force_torque>
                <frame>child</frame>
                <measure_direction>child_to_parent</measure_direction>
            </force_torque>
            <update_rate>100</update_rate>
            <always_on>1</always_on>
        </sensor>
    </gazebo>
    <gazebo reference="l_foot_ft_sensor">
        <sensor name="left_foot_ft" type="force_torque">
            <force_torque>
                <frame>child</frame>
                <measure_direction>child_to_parent</measure_direction>
            </force_torque>
            <update_rate>100</update_rate>
            <always_on>1</always_on>
        </sensor>
    </gazebo>
    <gazebo reference="r_foot_ft_sensor">
        <sensor name="right_foot_ft" type="force_torque">
            <force_torque>
                <frame>child</frame>
                <measure_direction>child_to_parent</measure_direction>
            </force_torque>
            <update_rate>100</update_rate>
            <always_on>1</always_on>
        </sensor>
    </gazebo>
    <sensor type="force_torque" name="l_arm_ft_sensor">
        <parent joint="l_arm_ft_sensor" />
        <force_torque>
            <frame>child</frame>
            <measure_direction>child_to_parent</measure_direction>
        </force_torque>
    </sensor>
    <sensor type="force_torque" name="r_arm_ft_sensor">
        <parent joint="r_arm_ft_sensor" />
        <force_torque>
            <frame>child</frame>
            <measure_direction>child_to_parent</measure_direction>
        </force_torque>
    </sensor>
    <sensor type="force_torque" name="l_leg_ft_sensor">
        <parent joint="l_leg_ft_sensor" />
        <force_torque>
            <frame>child</frame>
            <measure_direction>child_to_parent</measure_direction>
        </force_torque>
    </sensor>
    <sensor type="force_torque" name="r_leg_ft_sensor">
        <parent joint="r_leg_ft_sensor" />
        <force_torque>
            <frame>child</frame>
            <measure_direction>child_to_parent</measure_direction>
        </force_torque>
    </sensor>
    <sensor type="force_torque" name="l_foot_ft_sensor">
        <parent joint="l_foot_ft_sensor" />
        <force_torque>
            <frame>child</frame>
            <measure_direction>child_to_parent</measure_direction>
        </force_torque>
    </sensor>
    <sensor type="force_torque" name="r_foot_ft_sensor">
        <parent joint="r_foot_ft_sensor" />
        <force_torque>
            <frame>child</frame>
            <measure_direction>child_to_parent</measure_direction>
        </force_torque>
    </sensor>
</robot>
